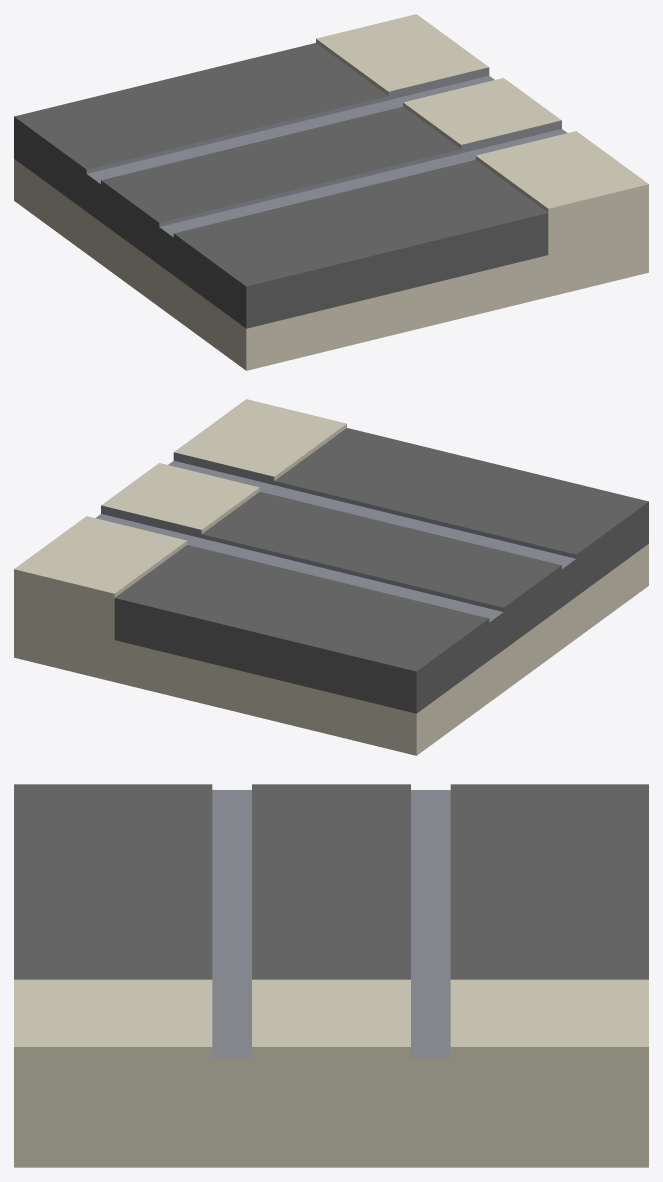
The model's file is tile285.dae.
3 renders of one model, top to bottom at view 1: azimuth 30°, elevation 25°; view 2: azimuth 150°, elevation 25°; view 3: azimuth 270°, elevation 25°, orthographic. The views are drawn at different scales.
Visible parts, largest first — view 1: tile285; view 2: tile285; view 3: tile285.
Part boxes in pixels (left/top/right/bottom): tile285: left=14, top=14, right=648, bottom=370; tile285: left=14, top=399, right=648, bottom=755; tile285: left=14, top=784, right=648, bottom=1167.
Bounding box in the file's own units: 1 × 0.21 × 1.
